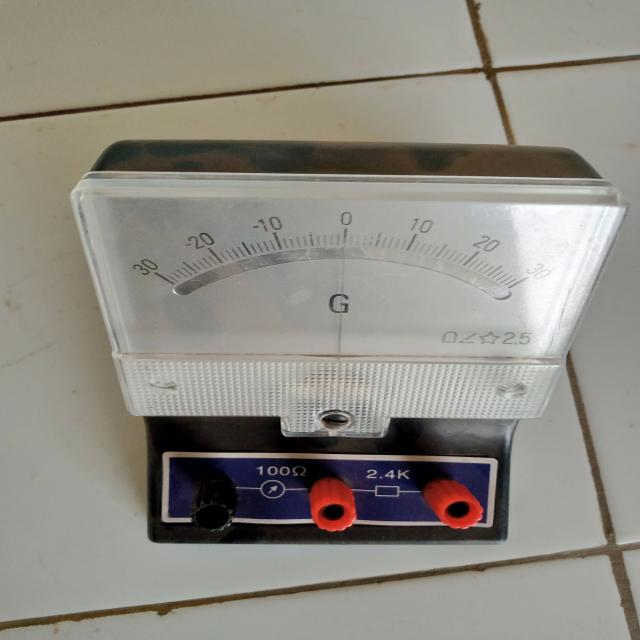Galvanometer: (64, 115, 631, 561)
